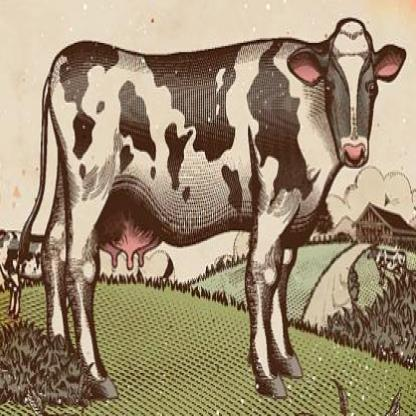cow: (20, 18, 406, 398)
